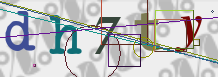7: (92, 13, 124, 58)
d: (3, 6, 37, 55)
h: (45, 11, 85, 59)
t: (131, 10, 165, 55)
y: (173, 14, 205, 54)
